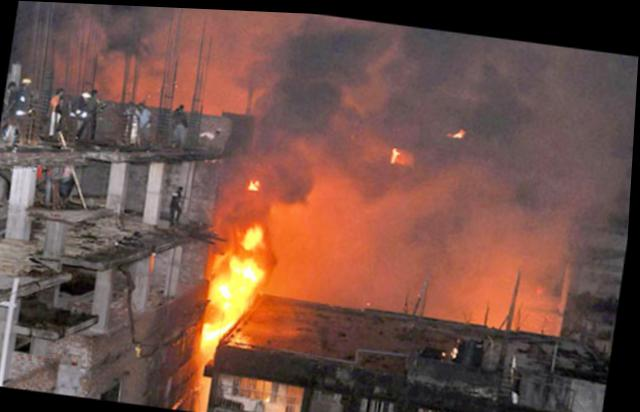fire: (213, 248, 269, 302), (203, 297, 250, 351), (241, 220, 268, 250), (243, 176, 272, 196)
smoke: (5, 0, 639, 155), (262, 125, 624, 335), (229, 117, 268, 175)
